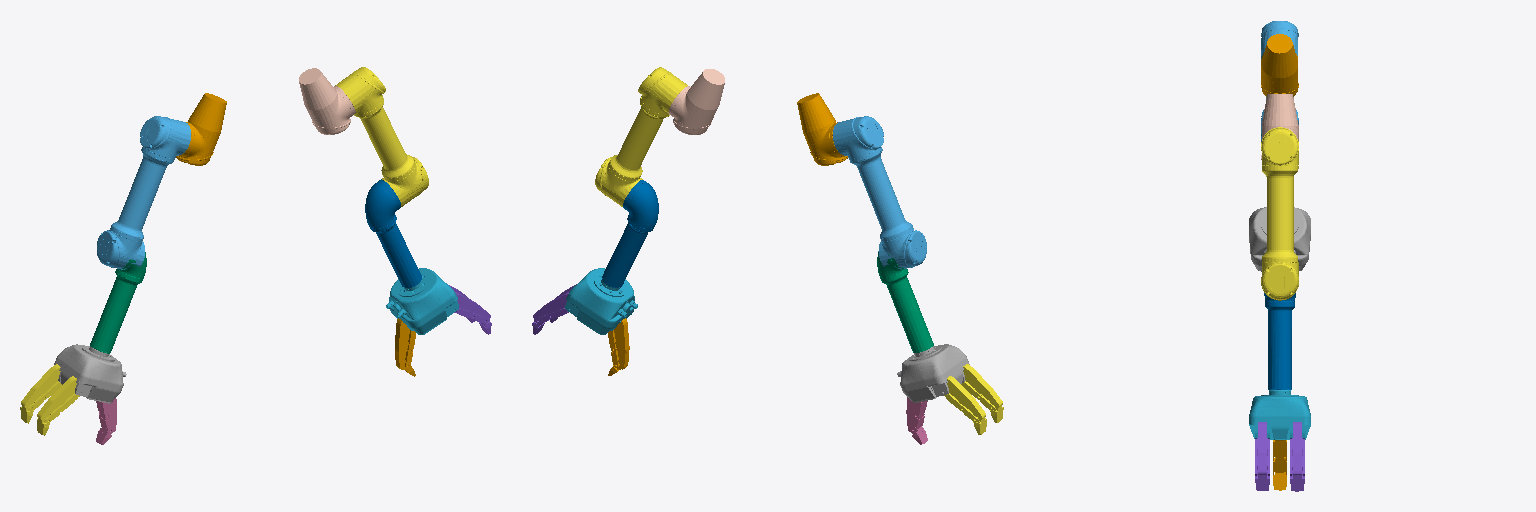
robot.urdf — dji_with_arms:
<?xml version="1.0"?>
<!-- created with Phobos 0.7 -->
  <robot name="dji_with_arms">

    <link name="armL_bfinger">
      <inertial>
        <origin xyz="0 0 0" rpy="0 0 0"/>
        <mass value="0.05426"/>
        <inertia ixx="0.001" ixy="0" ixz="0" iyy="0.001" iyz="0" izz="0.001"/>
      </inertial>
      <visual name="visual_0_armL_bfinger">
        <origin xyz="0 0 0" rpy="0 0 0"/>
        <geometry>
          <mesh filename="../meshes/obj/armL bfinger.002.obj" scale="1.0 1.0 1.0"/>
        </geometry>
      </visual>
      <collision name="collision_0_armL_bfinger">
        <origin xyz="0 0 0" rpy="0 0 0"/>
        <geometry>
          <mesh filename="../meshes/obj/armL bfinger.003.obj" scale="1.0 1.0 1.0"/>
        </geometry>
      </collision>
    </link>

    <link name="armL_hand">
      <inertial>
        <origin xyz="0 0 0" rpy="0 0 0"/>
        <mass value="0.51528"/>
        <inertia ixx="0.001" ixy="-2e-05" ixz="0" iyy="0.001" iyz="0" izz="0.001"/>
      </inertial>
      <visual name="visual_0_armL_hand">
        <origin xyz="0 0 0" rpy="0 0 0"/>
        <geometry>
          <mesh filename="../meshes/obj/armL hand.004.obj" scale="1.0 1.0 1.0"/>
        </geometry>
        <material name="hand_blue"/>
      </visual>
      <collision name="collision_0_armL_hand">
        <origin xyz="0 0 0" rpy="0 0 0"/>
        <geometry>
          <mesh filename="../meshes/obj/armL hand.005.obj" scale="1.0 1.0 1.0"/>
        </geometry>
      </collision>
    </link>

    <link name="armL_link1">
      <inertial>
        <origin xyz="0 0 0" rpy="0 0 0"/>
        <mass value="0.29699"/>
        <inertia ixx="0.001" ixy="0" ixz="0" iyy="0.001" iyz="-2e-05" izz="0.001"/>
      </inertial>
      <visual name="visual_0_armL_link1">
        <origin xyz="0 0 0" rpy="0 0 0"/>
        <geometry>
          <mesh filename="../meshes/obj/armL link1.004.obj" scale="1.0 1.0 1.0"/>
        </geometry>
        <material name="arm_beige"/>
      </visual>
      <collision name="collision_0_armL_link1">
        <origin xyz="0 0 0" rpy="0 0 0"/>
        <geometry>
          <mesh filename="../meshes/obj/armL link1.005.obj" scale="1.0 1.0 1.0"/>
        </geometry>
      </collision>
    </link>

    <link name="armL_link2">
      <inertial>
        <origin xyz="0 0 0" rpy="0 0 0"/>
        <mass value="0.43522"/>
        <inertia ixx="0.00442" ixy="0" ixz="0" iyy="0.001" iyz="0" izz="0.00438"/>
      </inertial>
      <visual name="visual_0_armL_link2">
        <origin xyz="0 0 0" rpy="0 0 0"/>
        <geometry>
          <mesh filename="../meshes/obj/armL link2.002.obj" scale="1.0 1.0 1.0"/>
        </geometry>
      </visual>
      <collision name="collision_0_armL_link2">
        <origin xyz="0 0 0" rpy="0 0 0"/>
        <geometry>
          <mesh filename="../meshes/obj/armL link2.003.obj" scale="1.0 1.0 1.0"/>
        </geometry>
      </collision>
    </link>

    <link name="armL_link3">
      <inertial>
        <origin xyz="0 0 0" rpy="0 0 0"/>
        <mass value="0.40456"/>
        <inertia ixx="0.00113" ixy="0" ixz="0" iyy="0.001" iyz="8e-05" izz="0.00112"/>
      </inertial>
      <visual name="visual_0_armL_link3">
        <origin xyz="0 0 0" rpy="0 0 0"/>
        <geometry>
          <mesh filename="../meshes/obj/armL link3.002.obj" scale="1.0 1.0 1.0"/>
        </geometry>
      </visual>
      <collision name="collision_0_armL_link3">
        <origin xyz="0 0 0" rpy="0 0 0"/>
        <geometry>
          <mesh filename="../meshes/obj/armL link3.003.obj" scale="1.0 1.0 1.0"/>
        </geometry>
      </collision>
    </link>

    <link name="armL_tfinger">
      <inertial>
        <origin xyz="0 0 0" rpy="0 0 0"/>
        <mass value="0.10851"/>
        <inertia ixx="0.001" ixy="0" ixz="0" iyy="0.001" iyz="0" izz="0.001"/>
      </inertial>
      <visual name="visual_0_armL_tfinger">
        <origin xyz="0 0 0" rpy="0 0 0"/>
        <geometry>
          <mesh filename="../meshes/obj/armL tfinger.004.obj" scale="1.0 1.0 1.0"/>
        </geometry>
        <material name="finger_purple"/>
      </visual>
      <collision name="collision_0_armL_tfinger">
        <origin xyz="0 0 0" rpy="0 0 0"/>
        <geometry>
          <mesh filename="../meshes/obj/armL tfinger.005.obj" scale="1.0 1.0 1.0"/>
        </geometry>
      </collision>
    </link>

    <link name="armR_bfinger">
      <inertial>
        <origin xyz="0 0 0" rpy="0 0 0"/>
        <mass value="0.05426"/>
        <inertia ixx="0.001" ixy="2e-05" ixz="0" iyy="0.00103" iyz="0" izz="0.001"/>
      </inertial>
      <visual name="visual_0_armR_bfinger">
        <origin xyz="0 0 0" rpy="0 0 0"/>
        <geometry>
          <mesh filename="../meshes/obj/armL bfinger.004.obj" scale="1.0 1.0 1.0"/>
        </geometry>
      </visual>
      <collision name="collision_0_armR_bfinger">
        <origin xyz="0 0 0" rpy="0 0 0"/>
        <geometry>
          <mesh filename="../meshes/obj/armL bfinger.005.obj" scale="1.0 1.0 1.0"/>
        </geometry>
      </collision>
    </link>

    <link name="armR_hand">
      <inertial>
        <origin xyz="0 0 0" rpy="0 0 0"/>
        <mass value="0.51528"/>
        <inertia ixx="0.001" ixy="-2e-05" ixz="0" iyy="0.001" iyz="0" izz="0.001"/>
      </inertial>
      <visual name="visual_0_armR_hand">
        <origin xyz="0 0 0" rpy="0 0 0"/>
        <geometry>
          <mesh filename="../meshes/obj/armL hand.002.obj" scale="1.0 1.0 1.0"/>
        </geometry>
      </visual>
      <collision name="collision_0_armR_hand">
        <origin xyz="0 0 0" rpy="0 0 0"/>
        <geometry>
          <mesh filename="../meshes/obj/armL hand.003.obj" scale="1.0 1.0 1.0"/>
        </geometry>
      </collision>
    </link>

    <link name="armR_link1">
      <inertial>
        <origin xyz="0 0 0" rpy="0 0 0"/>
        <mass value="0.29699"/>
        <inertia ixx="0.001" ixy="0" ixz="0" iyy="0.001" iyz="-2e-05" izz="0.001"/>
      </inertial>
      <visual name="visual_0_armR_link1">
        <origin xyz="0 0 0" rpy="0 0 0"/>
        <geometry>
          <mesh filename="../meshes/obj/armL link1.002.obj" scale="1.0 1.0 1.0"/>
        </geometry>
      </visual>
      <collision name="collision_0_armR_link1">
        <origin xyz="0 0 0" rpy="0 0 0"/>
        <geometry>
          <mesh filename="../meshes/obj/armL link1.003.obj" scale="1.0 1.0 1.0"/>
        </geometry>
      </collision>
    </link>

    <link name="armR_link2">
      <inertial>
        <origin xyz="0 0 0" rpy="0 0 0"/>
        <mass value="0.43522"/>
        <inertia ixx="0.00442" ixy="0" ixz="0" iyy="0.001" iyz="0" izz="0.00438"/>
      </inertial>
      <visual name="visual_0_armR_link2">
        <origin xyz="0 0 0" rpy="0 0 0"/>
        <geometry>
          <mesh filename="../meshes/obj/armL link2.004.obj" scale="1.0 1.0 1.0"/>
        </geometry>
      </visual>
      <collision name="collision_0_armR_link2">
        <origin xyz="0 0 0" rpy="0 0 0"/>
        <geometry>
          <mesh filename="../meshes/obj/armL link2.005.obj" scale="1.0 1.0 1.0"/>
        </geometry>
      </collision>
    </link>

    <link name="armR_link3">
      <inertial>
        <origin xyz="0 0 0" rpy="0 0 0"/>
        <mass value="0.40456"/>
        <inertia ixx="0.00113" ixy="0" ixz="0" iyy="0.001" iyz="8e-05" izz="0.00112"/>
      </inertial>
      <visual name="visual_0_armR_link3">
        <origin xyz="0 0 0" rpy="0 0 0"/>
        <geometry>
          <mesh filename="../meshes/obj/armL link3.004.obj" scale="1.0 1.0 1.0"/>
        </geometry>
      </visual>
      <collision name="collision_0_armR_link3">
        <origin xyz="0 0 0" rpy="0 0 0"/>
        <geometry>
          <mesh filename="../meshes/obj/armL link3.005.obj" scale="1.0 1.0 1.0"/>
        </geometry>
      </collision>
    </link>

    <link name="armR_tfinger">
      <inertial>
        <origin xyz="0 0 0" rpy="0 0 0"/>
        <mass value="0.10851"/>
        <inertia ixx="0.001" ixy="0" ixz="0" iyy="0.001" iyz="0" izz="0.001"/>
      </inertial>
      <visual name="visual_0_armR_tfinger">
        <origin xyz="0 0 0" rpy="0 0 0"/>
        <geometry>
          <mesh filename="../meshes/obj/armL tfinger.002.obj" scale="1.0 1.0 1.0"/>
        </geometry>
      </visual>
      <collision name="collision_0_armR_tfinger">
        <origin xyz="0 0 0" rpy="0 0 0"/>
        <geometry>
          <mesh filename="../meshes/obj/armL tfinger.003.obj" scale="1.0 1.0 1.0"/>
        </geometry>
      </collision>
    </link>

    <link name="dji_hexcopter">
      <inertial>
        <origin xyz="0 0 0" rpy="0 0 0"/>
        <mass value="1.8786"/>
        <inertia ixx="0.00376" ixy="0" ixz="0" iyy="0.00479" iyz="0" izz="0.00173"/>
      </inertial>
      <visual name="visual_0_dji_hexcopter">
        <origin xyz="0 0 0" rpy="0 0 0"/>
        <geometry>
          <mesh filename="../meshes/obj/dji hexcopter.002.obj" scale="1.0 1.0 1.0"/>
        </geometry>
        <material name="hexcopter_red"/>
      </visual>
      <collision name="collision_0_dji_hexcopter">
        <origin xyz="0 0 0" rpy="0 0 0"/>
        <geometry>
          <mesh filename="../meshes/obj/dji hexcopter.003.obj" scale="1.0 1.0 1.0"/>
        </geometry>
      </collision>
    </link>

    <joint name="armL_joint1" type="continuous">
      <origin xyz="0.09567 -0.02984 -0.0907" rpy="-1.1425 0 -1.5708"/>
      <parent link="dji_hexcopter"/>
      <child link="armL_link1"/>
      <axis xyz="0 1.0 0"/>
      <limit effort="0" velocity="0"/>
    </joint>

    <joint name="armL_joint2" type="continuous">
      <origin xyz="0 0.06133 -0.0677" rpy="0 0 0"/>
      <parent link="armL_link1"/>
      <child link="armL_link2"/>
      <axis xyz="0 0 1.0"/>
    </joint>

    <joint name="armL_joint3" type="continuous">
      <origin xyz="0 0.2125 -0.02883" rpy="0 0 0"/>
      <parent link="armL_link2"/>
      <child link="armL_link3"/>
      <axis xyz="0 0 1.0"/>
    </joint>

    <joint name="armL_joint_bfinger" type="continuous">
      <origin xyz="0.03336 0.05794 0" rpy="0 0 0"/>
      <parent link="armL_hand"/>
      <child link="armL_bfinger"/>
      <axis xyz="0 0 1.0"/>
    </joint>

    <joint name="armL_joint_tfinger" type="continuous">
      <origin xyz="-0.0334 0.05794 0" rpy="0 0 0"/>
      <parent link="armL_hand"/>
      <child link="armL_tfinger"/>
      <axis xyz="0 0 1.0"/>
    </joint>

    <joint name="armL_joint_wrist" type="continuous">
      <origin xyz="0 0.18481 0.09983" rpy="0 1.57079 0"/>
      <parent link="armL_link3"/>
      <child link="armL_hand"/>
      <axis xyz="0 1.0 0"/>
    </joint>

    <joint name="armR_joint1" type="continuous">
      <origin xyz="-0.10256 -0.03011 -0.08831" rpy="-1.1425 0 1.5708"/>
      <parent link="dji_hexcopter"/>
      <child link="armR_link1"/>
      <axis xyz="0 1.0 0"/>
    </joint>

    <joint name="armR_joint2" type="continuous">
      <origin xyz="0 0.06133 -0.0677" rpy="0 0 0"/>
      <parent link="armR_link1"/>
      <child link="armR_link2"/>
      <axis xyz="0 0 1.0"/>
    </joint>

    <joint name="armR_joint3" type="continuous">
      <origin xyz="0 0.2125 0" rpy="0 0 0"/>
      <parent link="armR_link2"/>
      <child link="armR_link3"/>
      <axis xyz="0 0 1.0"/>
    </joint>

    <joint name="armR_joint_bfinger" type="continuous">
      <origin xyz="0.03336 0.05794 0" rpy="0 0 0"/>
      <parent link="armR_hand"/>
      <child link="armR_bfinger"/>
      <axis xyz="0 0 1.0"/>
    </joint>

    <joint name="armR_joint_tfinger" type="continuous">
      <origin xyz="-0.0334 0.05794 0" rpy="0 0 0"/>
      <parent link="armR_hand"/>
      <child link="armR_tfinger"/>
      <axis xyz="0 0 1.0"/>
    </joint>

    <joint name="armR_joint_wrist" type="continuous">
      <origin xyz="0 0.18481 0.09983" rpy="0 1.57079 0"/>
      <parent link="armR_link3"/>
      <child link="armR_hand"/>
      <axis xyz="0 1.0 0"/>
    </joint>

    <material name="arm_beige">
      <color rgba="0.94509 0.79215 0.72941 1.0"/>
    </material>

    <material name="finger_purple">
      <color rgba="0.54901 0.38823 0.81176 1.0"/>
    </material>

    <material name="hand_blue">
      <color rgba="0.2 0.67843 0.8 1.0"/>
    </material>

    <material name="hexcopter_red">
      <color rgba="0.7098 0.18823 0.14117 1.0"/>
    </material>

  </robot>

--- Facts derived from the render (not from the file) ---
3 views of the same robot in one strip: view 1: azimuth 30°, elevation 25°; view 2: azimuth 150°, elevation 25°; view 3: azimuth 270°, elevation 25° (orthographic).
Model dji_with_arms with 13 links and 12 joints (12 continuous), rooted at dji_hexcopter, posed every joint at zero.
Visible links, largest first — view 1: armR_link2, armL_link2, armL_hand, armR_hand, armL_link3, armL_link1, armR_link3, armR_tfinger, armR_link1, armL_bfinger, armL_tfinger, armR_bfinger; view 2: armR_link2, armL_link2, armL_hand, armR_hand, armL_link3, armL_link1, armR_link3, armR_tfinger, armR_link1, armL_bfinger, armL_tfinger, armR_bfinger; view 3: armL_link2, armL_hand, armL_link3, armR_link1, armL_tfinger, armR_hand, armL_link1, armR_link2, armL_bfinger.
Boxes of the visible links, <box> form: armR_link2: <box>97,116,190,269</box>; armL_link2: <box>335,67,428,206</box>; armL_hand: <box>386,268,458,334</box>; armR_hand: <box>54,344,126,403</box>; armL_link3: <box>365,179,421,287</box>; armL_link1: <box>299,68,355,134</box>; armR_link3: <box>90,252,146,353</box>; armR_tfinger: <box>20,364,79,435</box>; armR_link1: <box>176,93,226,165</box>; armL_bfinger: <box>395,318,415,376</box>; armL_tfinger: <box>449,285,491,334</box>; armR_bfinger: <box>96,398,116,444</box>; armR_link2: <box>833,116,926,269</box>; armL_link2: <box>595,67,687,206</box>; armL_hand: <box>565,268,637,334</box>; armR_hand: <box>897,344,969,402</box>; armL_link3: <box>602,180,658,287</box>; armL_link1: <box>668,69,724,134</box>; armR_link3: <box>877,252,933,352</box>; armR_tfinger: <box>944,364,1003,434</box>; armR_link1: <box>797,93,847,165</box>; armL_bfinger: <box>608,318,629,375</box>; armL_tfinger: <box>532,284,576,334</box>; armR_bfinger: <box>906,397,927,444</box>; armL_link2: <box>1261,127,1298,300</box>; armL_hand: <box>1249,390,1310,439</box>; armL_link3: <box>1264,293,1295,389</box>; armR_link1: <box>1261,34,1298,96</box>; armL_tfinger: <box>1255,422,1304,491</box>; armR_hand: <box>1249,207,1310,271</box>; armL_link1: <box>1261,94,1298,159</box>; armR_link2: <box>1261,21,1298,141</box>; armL_bfinger: <box>1273,440,1286,490</box>.
Bounding box of the posed robot: 0.8677 × 0.0979 × 0.6065 m (x, y, z).
12 mesh visuals loaded from 13 distinct referenced files (12 OBJ); not drawn: 1 (reference not matched to a file when rendering).